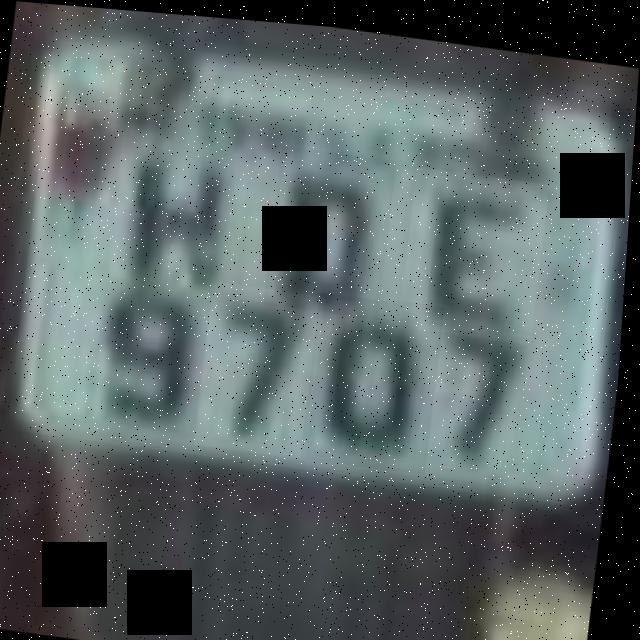0: (307, 286, 449, 468)
3: (402, 159, 552, 335)
7: (199, 277, 329, 455), (410, 314, 556, 455)
9: (88, 272, 218, 446)
D: (267, 140, 399, 314)
H: (114, 142, 242, 303)
